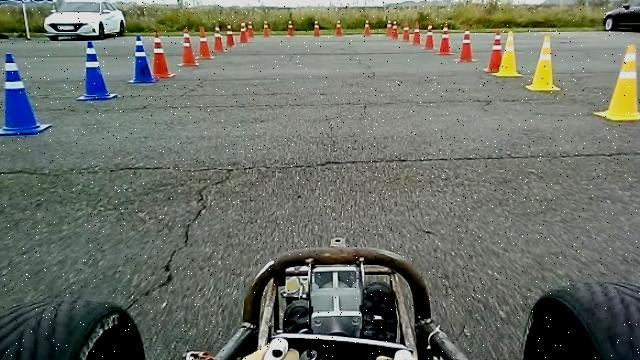blue cone: (0, 52, 52, 136), (74, 40, 118, 100), (126, 35, 158, 84)
red cone: (150, 32, 174, 78), (453, 29, 478, 62), (482, 31, 502, 72), (177, 29, 199, 66), (194, 26, 214, 58), (436, 24, 454, 54)
yellow cone: (592, 43, 640, 121), (523, 33, 561, 92), (491, 30, 524, 77)
